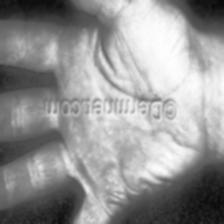Toxin: (71, 113, 184, 172), (52, 38, 98, 94), (0, 155, 62, 192), (0, 33, 41, 67), (1, 102, 46, 130), (70, 214, 98, 224)
